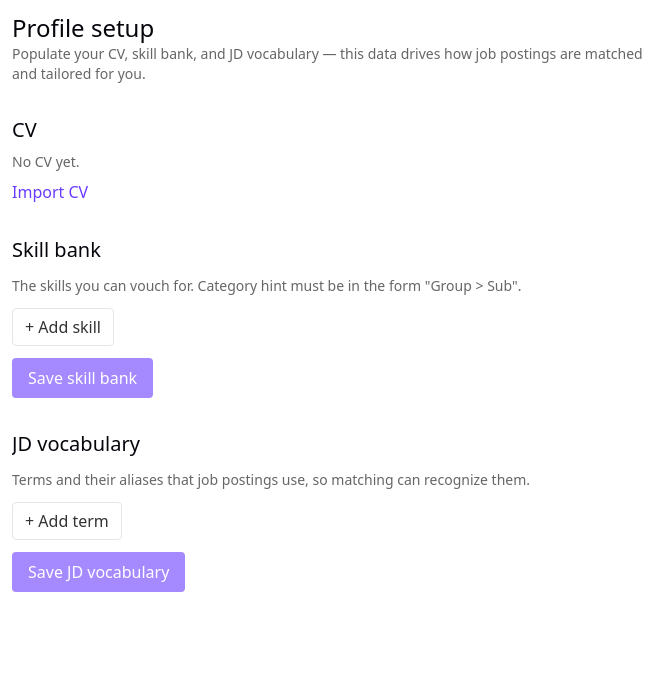
Test: Onboarding page › enables and saves the skill bank once required fields and the category hint format are valid
Expected: the text "No CV yet." is shown, [12,152,80,171]
Click the button "+ Add skill" at [63, 327], box [12,308,114,346]
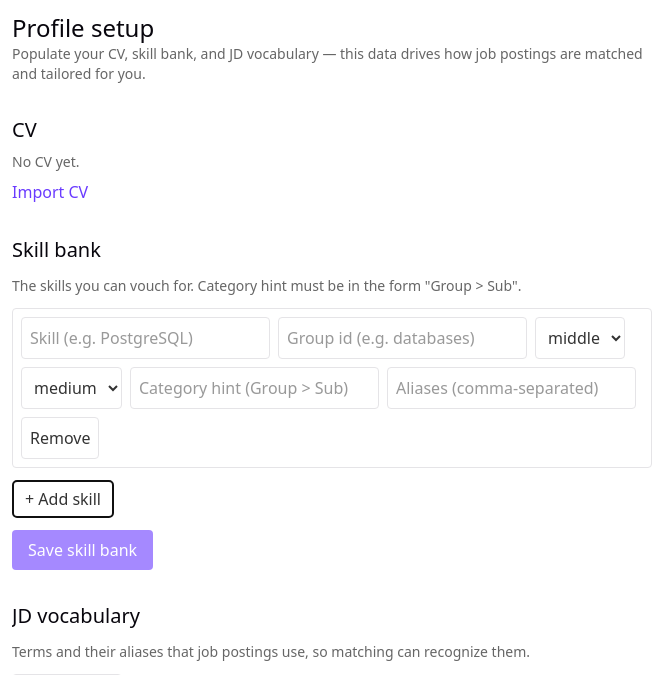
Expected: the button "Save skill bank" is disabled, [12,530,153,570]
Type "PostgreSQL" into the field with placeholder "Skill (e.g. PostgreSQL)" at [146, 338], box [21,317,270,359]
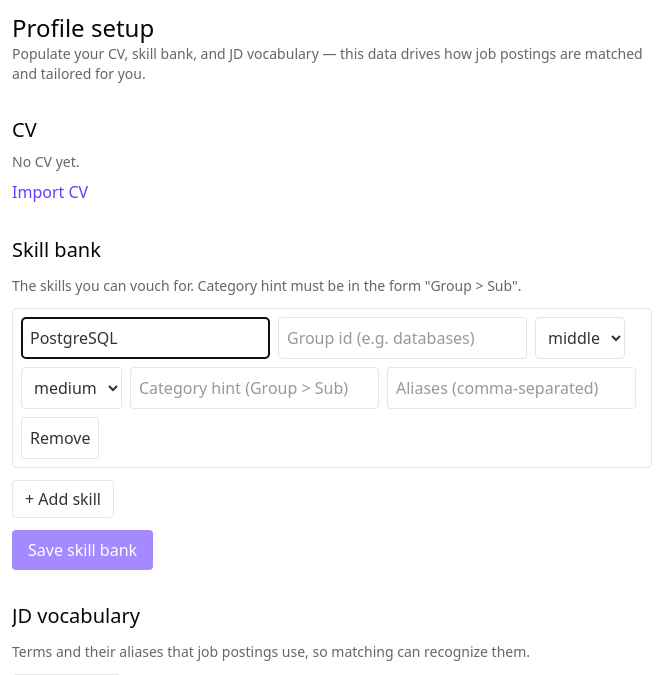
Type "databases" into the field with placeholder "Group id (e.g. databases)" at [402, 338], box [278,317,527,359]
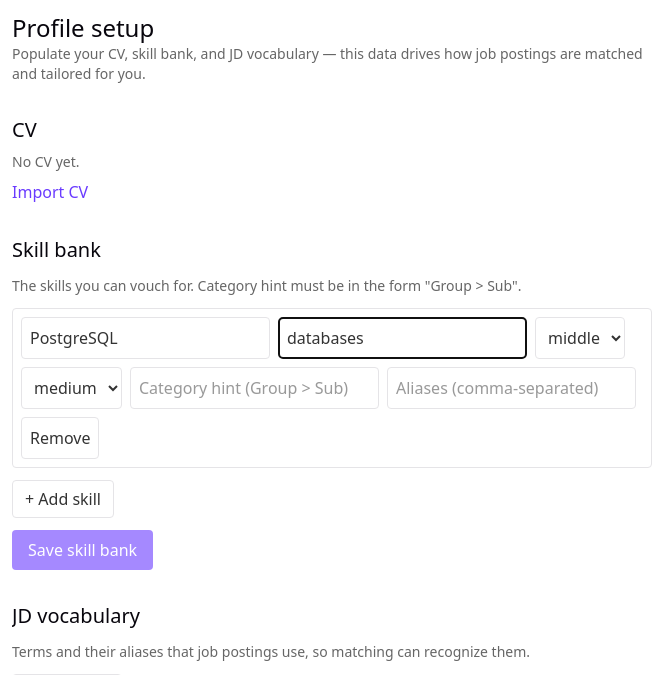
Type "Databases" into the field with placeholder "Category hint (Group > Sub)" at [254, 388], box [130,367,379,409]
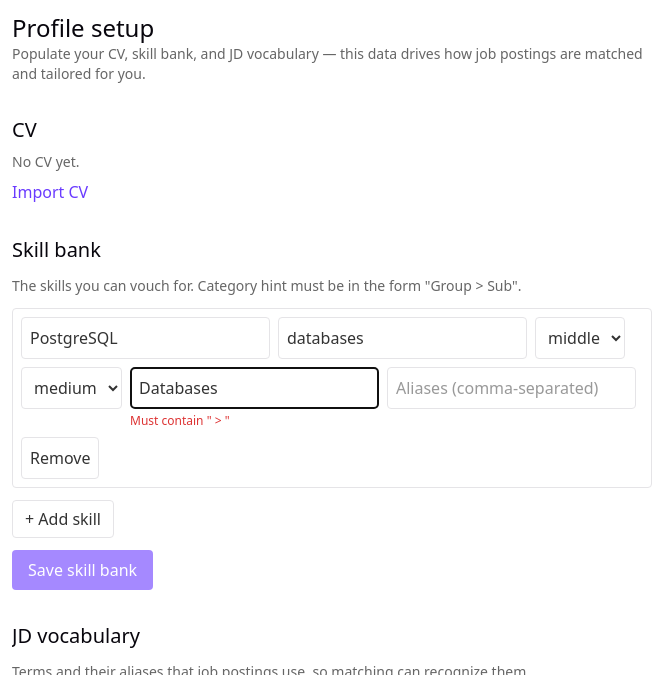
Expected: the button "Save skill bank" is disabled, [12,550,153,590]
Type " > SQL" into the 3rd field with placeholder "Category hint (Group > Sub)" at [254, 388], box [130,367,379,409]
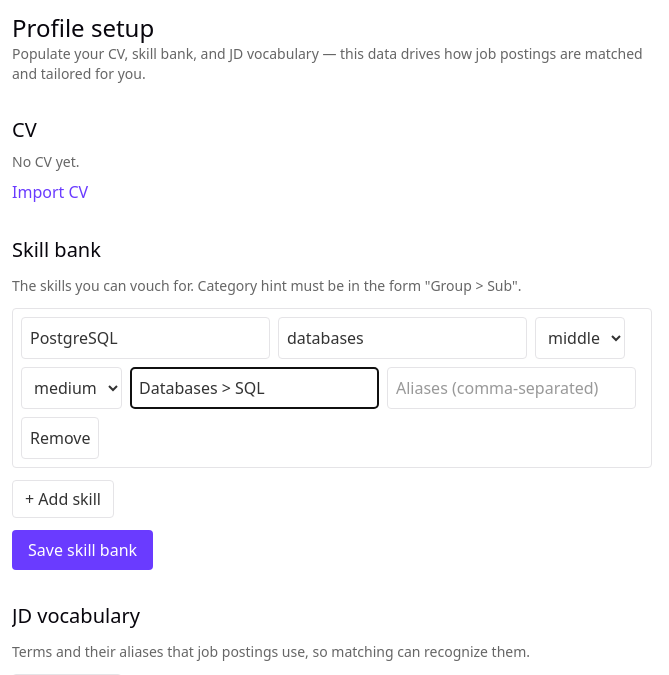
Now the button "Save skill bank" is enabled
Click the button "Save skill bank" at [83, 550], box [12,530,153,570]
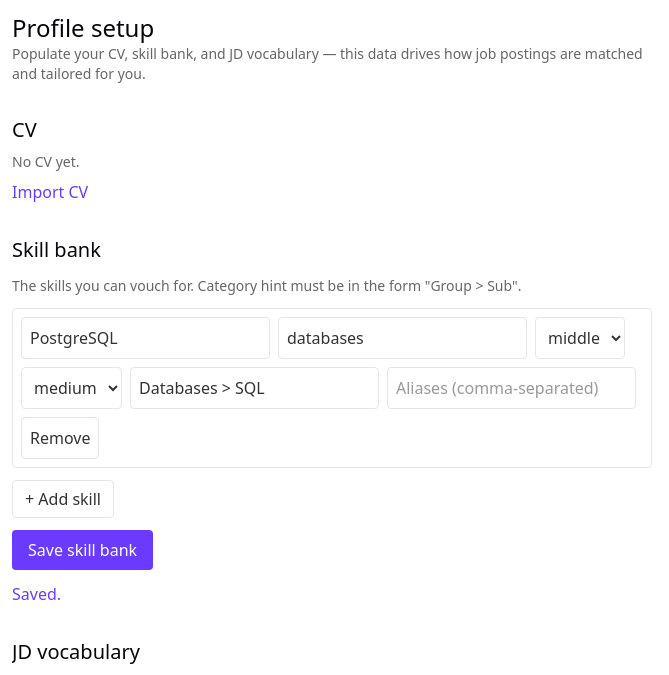
Now the text "Saved." is shown, box [12,583,61,605]
